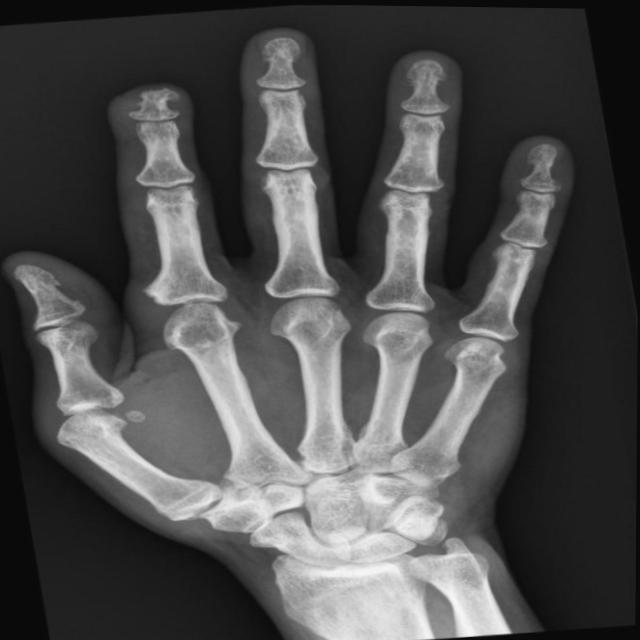Comminuted: (109, 77, 199, 132)
